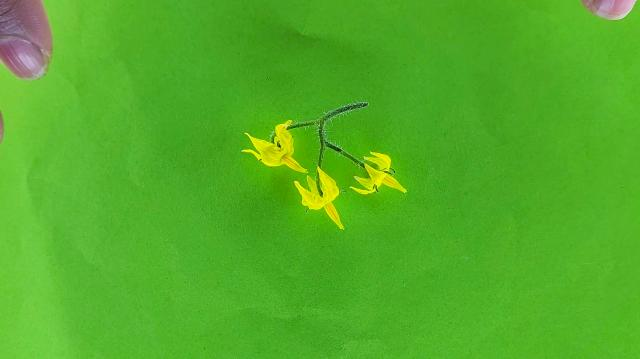Anthesis: (239, 119, 308, 175), (292, 163, 347, 231), (349, 152, 409, 197)
